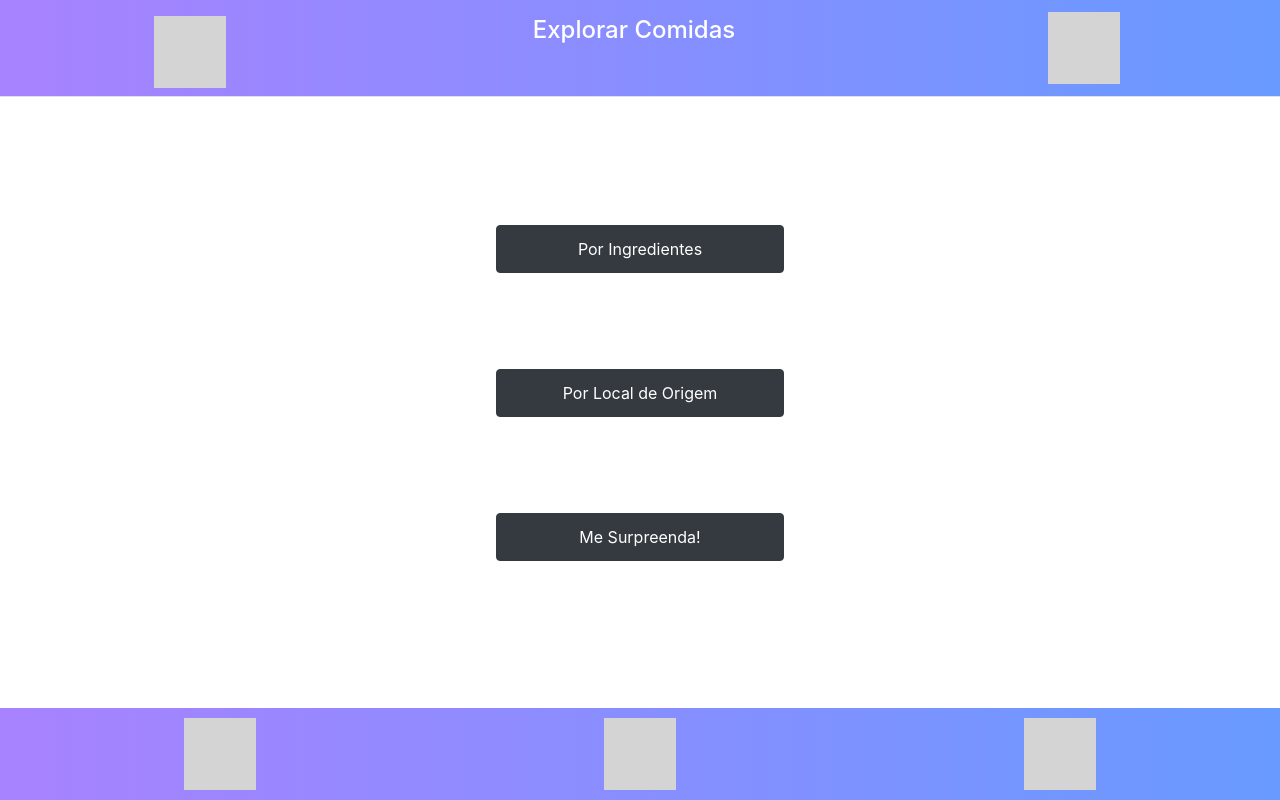
Test: Página "Explorar Comidas" › Verifica se ao clicar em "Por Ingredientes" muda a rota
This screenshot has width=1280, height=800.
Click the button with test id "explore-by-ingredient": click(640, 249) [496,225,784,273]
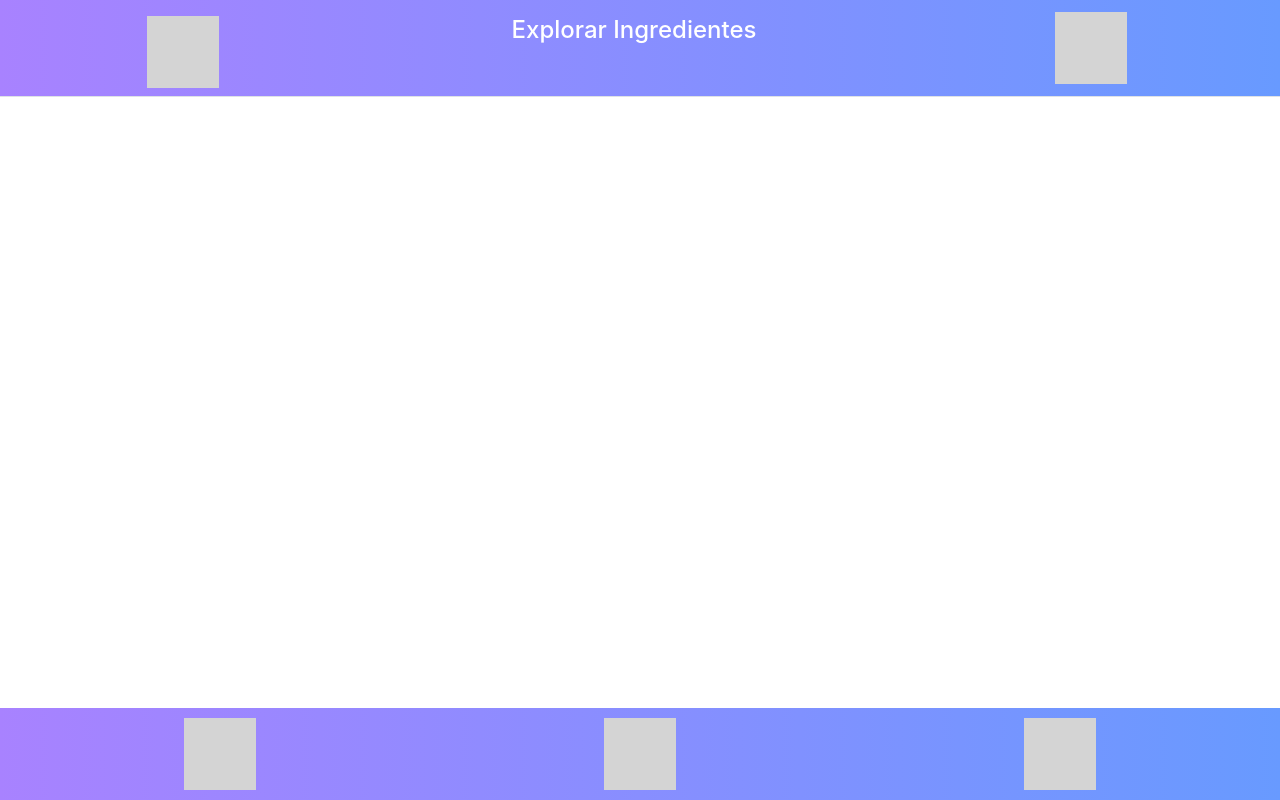
Expected: the heading "Explorar Ingredientes" is shown, [512,15,756,44]
